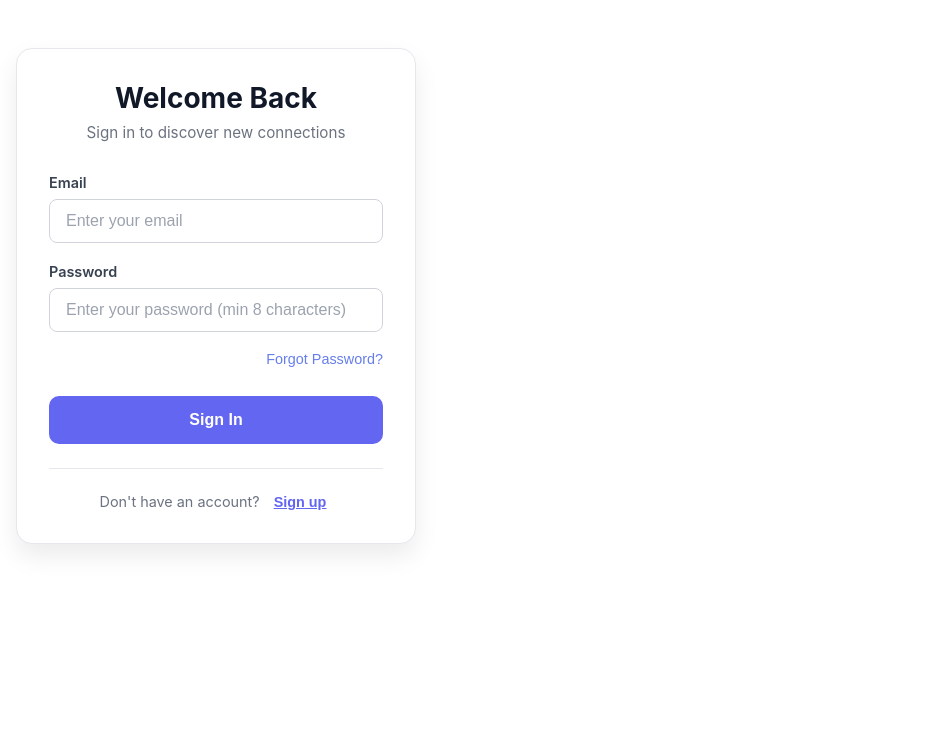
Test: Resend Verification Feature › Unverified User Login › should show error toast when resend fails
Type "test@example.com" into the field labelled "Email".
click(216, 221); type("test@example.com")  # box x1=49 y1=199 x2=383 y2=243
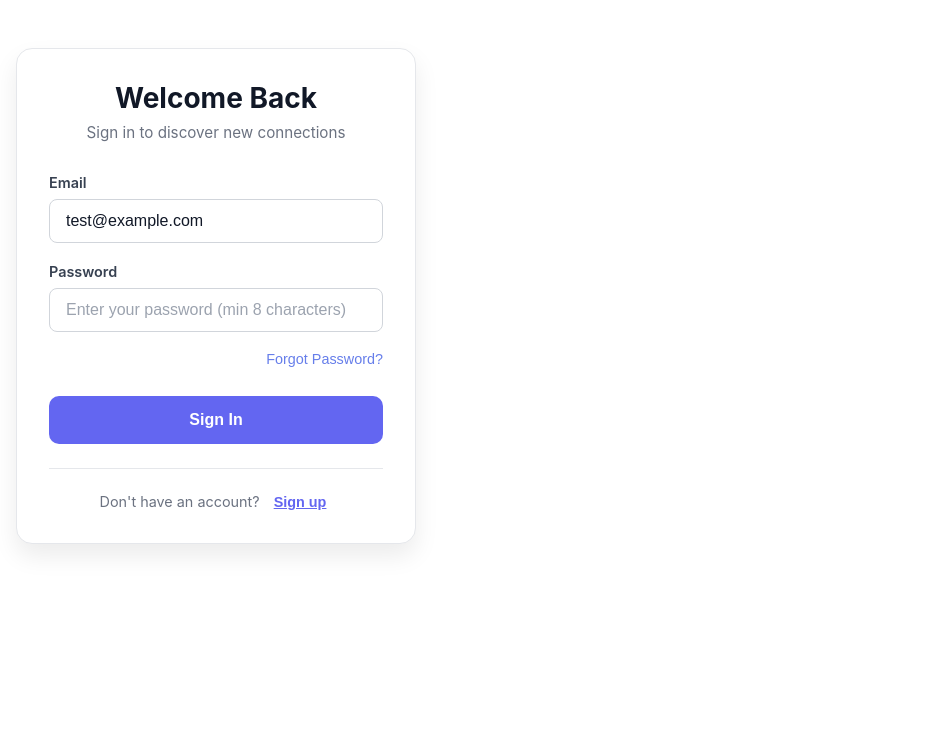
Type "password123" into the password field labelled "Password".
click(216, 310); type("password123")  # box x1=49 y1=288 x2=383 y2=332
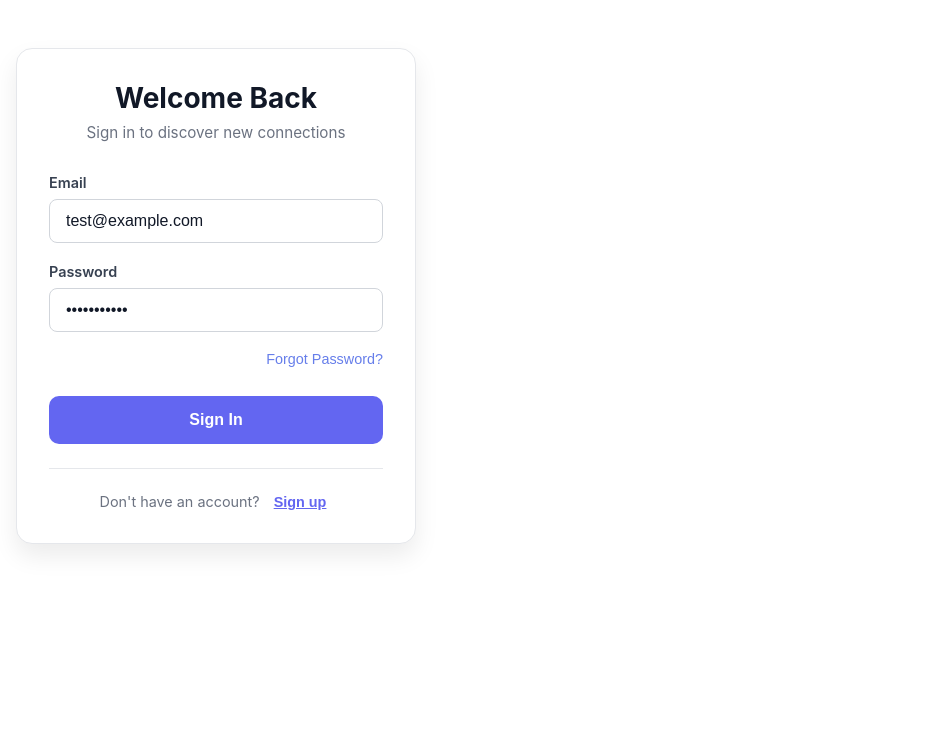
Click the button "Sign In".
click(216, 420)  # box x1=49 y1=396 x2=383 y2=444
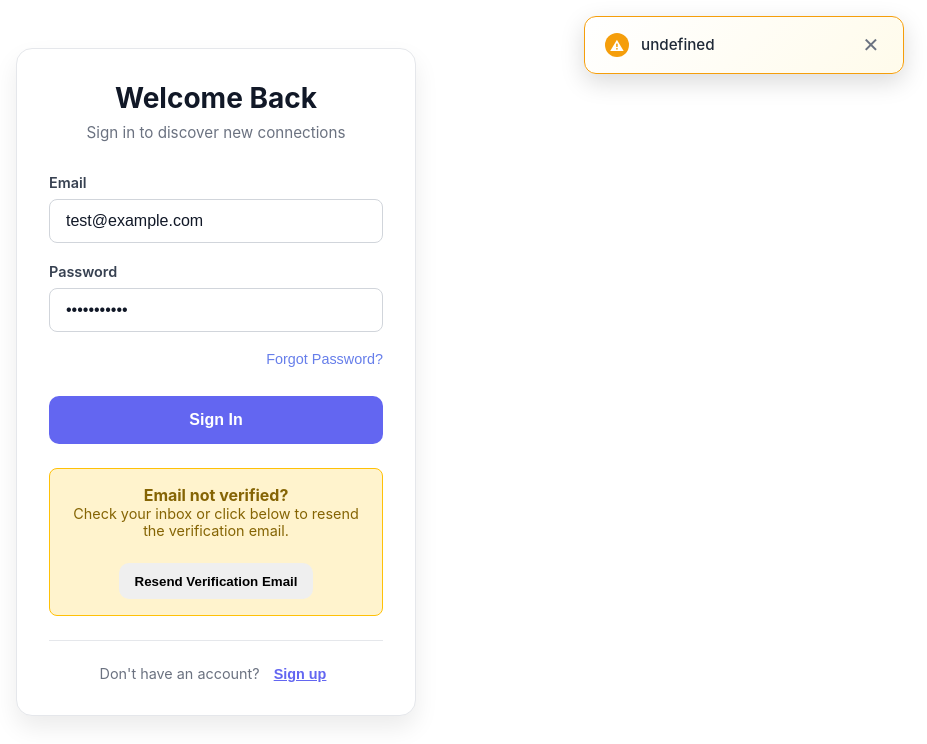
# Click resend button
Click the button "Resend Verification Email".
click(216, 581)  # box x1=119 y1=563 x2=313 y2=599
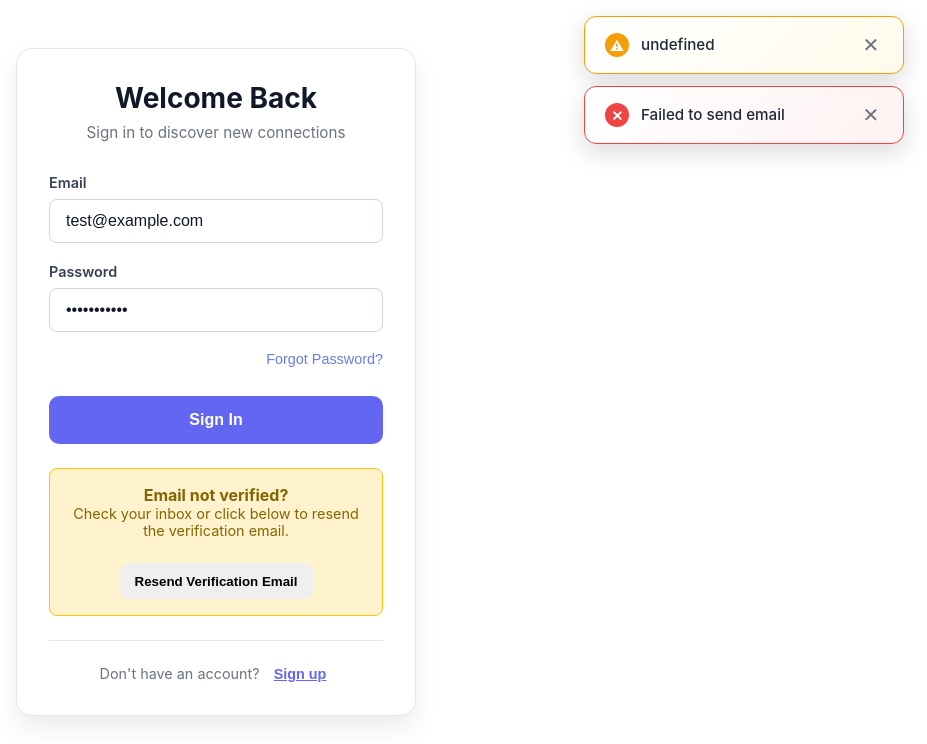
Expected: the text "Failed to send email" is shown, x1=641 y1=104 x2=785 y2=126
